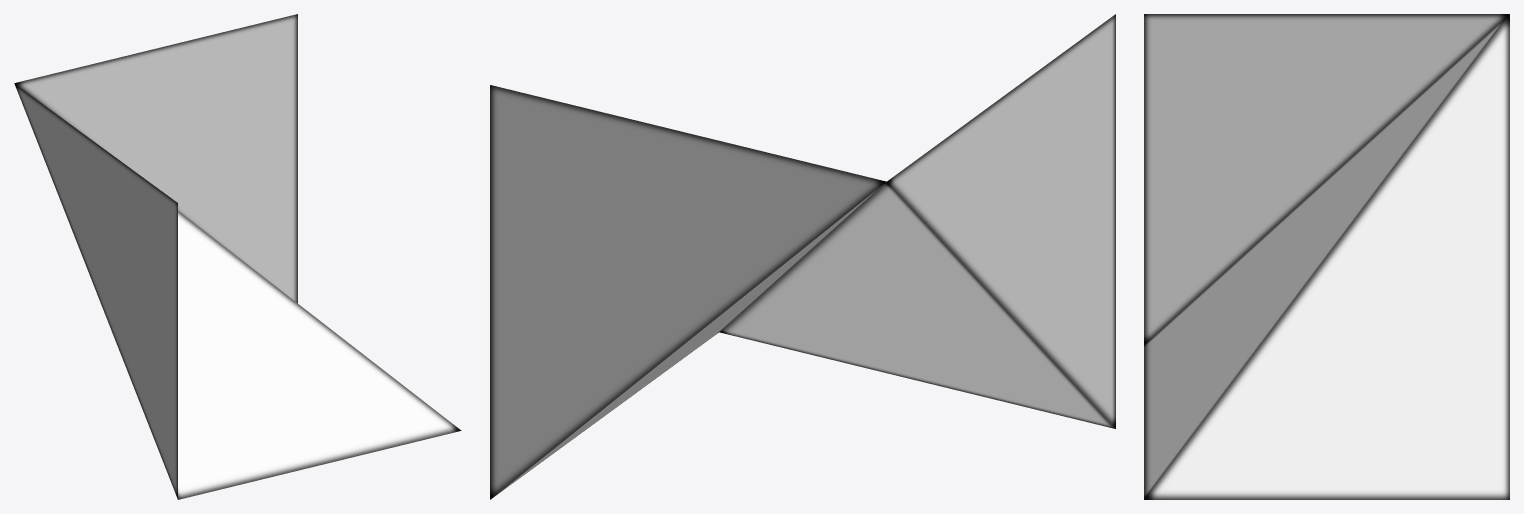
The model's file is corner_2-slope_outside_2-side.fbx.
The picture shows the model from 3 angles, left to right: view 1: azimuth 30°, elevation 25°; view 2: azimuth 150°, elevation 25°; view 3: azimuth 270°, elevation 25°; orthographic projection. The views are drawn at different scales.
Visible parts, largest first — view 1: corner_2-slope_outside_2-side; view 2: corner_2-slope_outside_2-side; view 3: corner_2-slope_outside_2-side.
Boxes of the visible parts, x1,y1,x2,y2 form: corner_2-slope_outside_2-side: (14, 14, 461, 499); corner_2-slope_outside_2-side: (490, 14, 1115, 499); corner_2-slope_outside_2-side: (1144, 14, 1509, 499).
Size of the model in its own units: 100 by 100 by 100.
